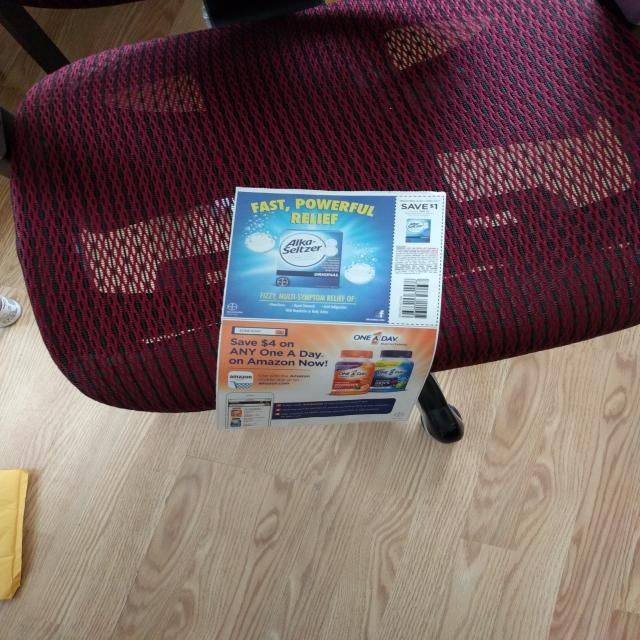document: (217, 188, 445, 429)
